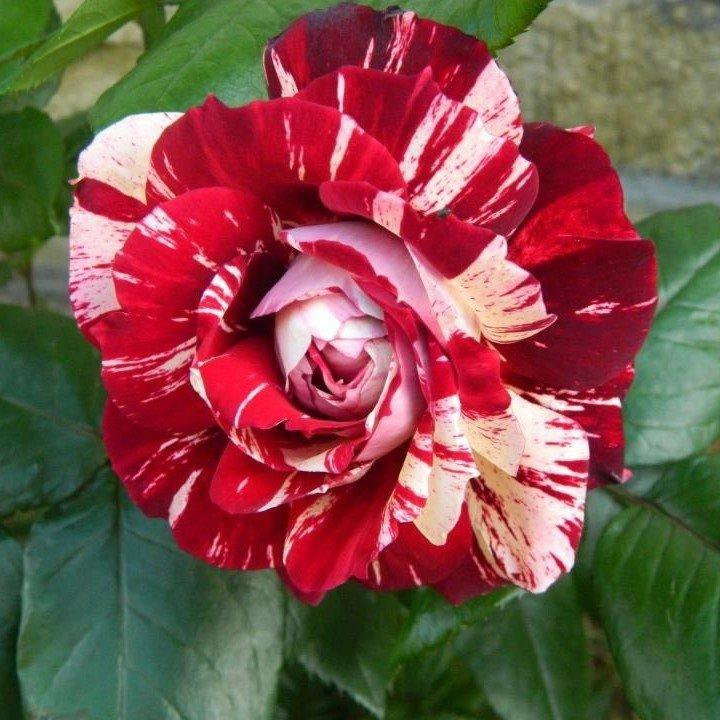Rose: (54, 5, 660, 597)
